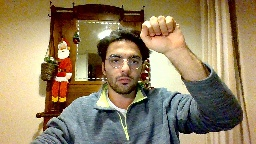Pugno: (138, 13, 188, 56)
